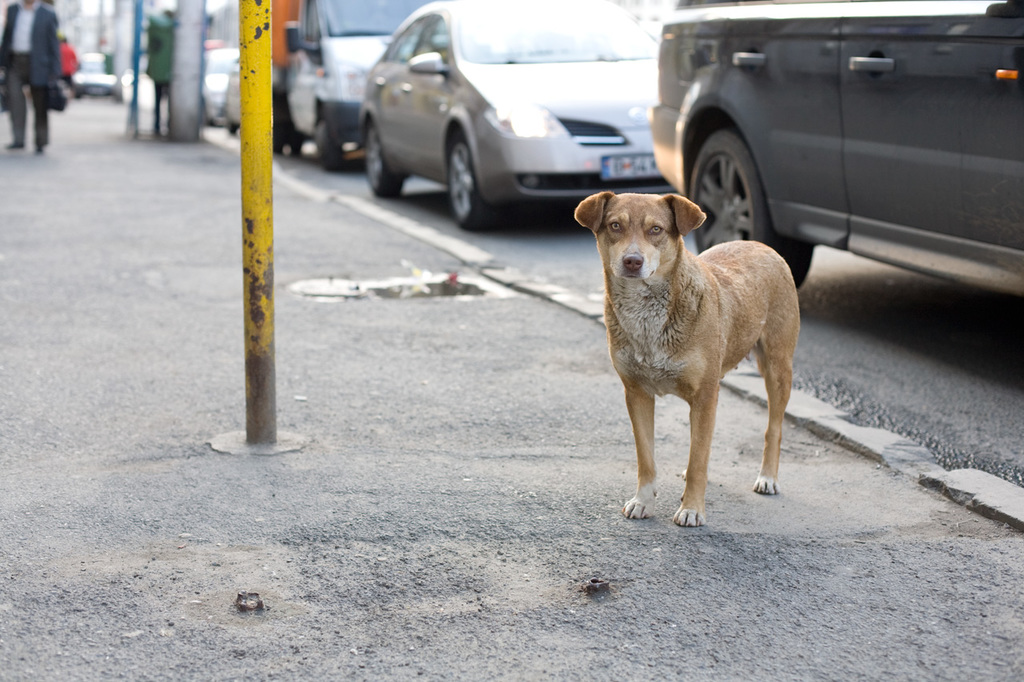Car: (649, 0, 1023, 319), (357, 0, 679, 232), (198, 45, 245, 123), (62, 47, 120, 103)
